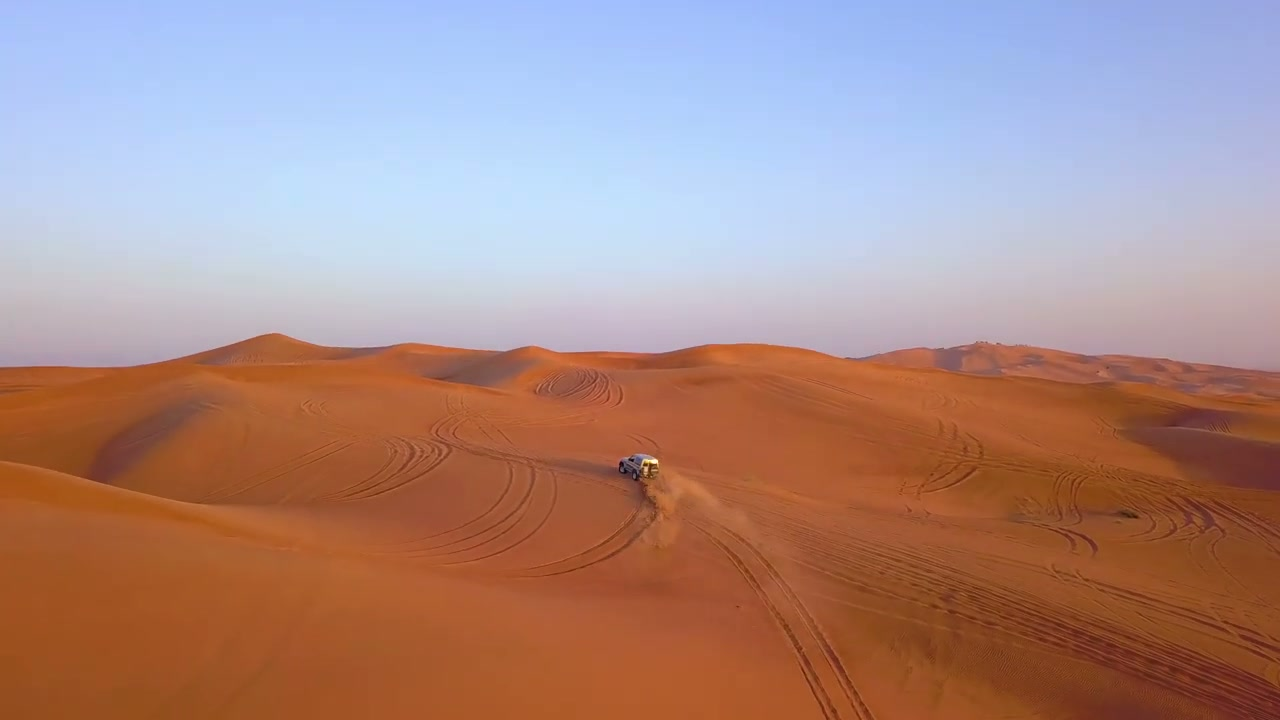vehicle_track: (792, 523, 1279, 719), (692, 518, 873, 719), (407, 395, 558, 564), (510, 503, 655, 577), (200, 436, 357, 502), (908, 418, 985, 497)
